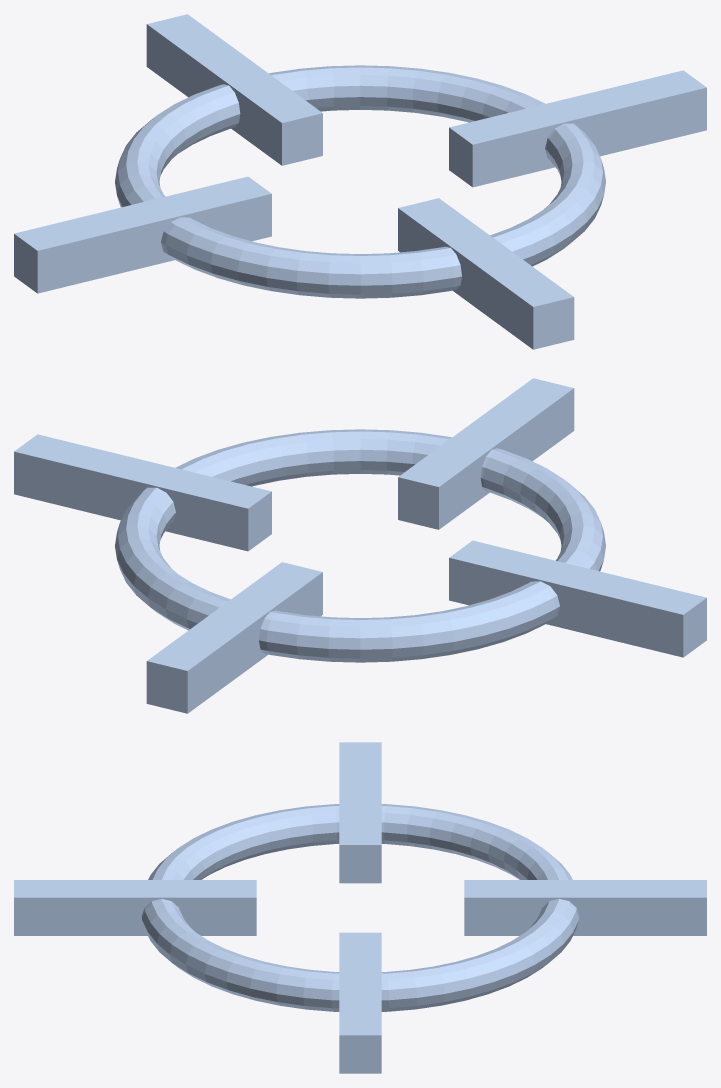
File: BombMarker.dae
3 renders of one model, top to bottom at view 1: azimuth 30°, elevation 25°; view 2: azimuth 150°, elevation 25°; view 3: azimuth 270°, elevation 25°, orthographic. The views are drawn at different scales.
Parts seen in each view (by area): view 1: Torus, Cube.000, Cube.001, Cube.002, Cube.010; view 2: Torus, Cube.000, Cube.001, Cube.010, Cube.002; view 3: Torus, Cube.002, Cube.010, Cube.000, Cube.001.
Part boxes in pixels (<box>): Torus: <box>115,65,605,298</box>; Cube.000: <box>449,70,706,187</box>; Cube.001: <box>14,176,271,293</box>; Cube.002: <box>146,14,322,165</box>; Cube.010: <box>398,198,574,349</box>; Torus: <box>115,429,605,662</box>; Cube.000: <box>14,434,271,551</box>; Cube.001: <box>449,540,706,657</box>; Cube.010: <box>398,378,574,529</box>; Cube.002: <box>146,562,322,713</box>; Torus: <box>141,804,579,1011</box>; Cube.002: <box>464,880,706,935</box>; Cube.010: <box>14,880,256,935</box>; Cube.000: <box>339,932,381,1073</box>; Cube.001: <box>339,742,381,883</box>.
Bounding box in the file's own units: 2.77 × 2.77 × 0.1691.
